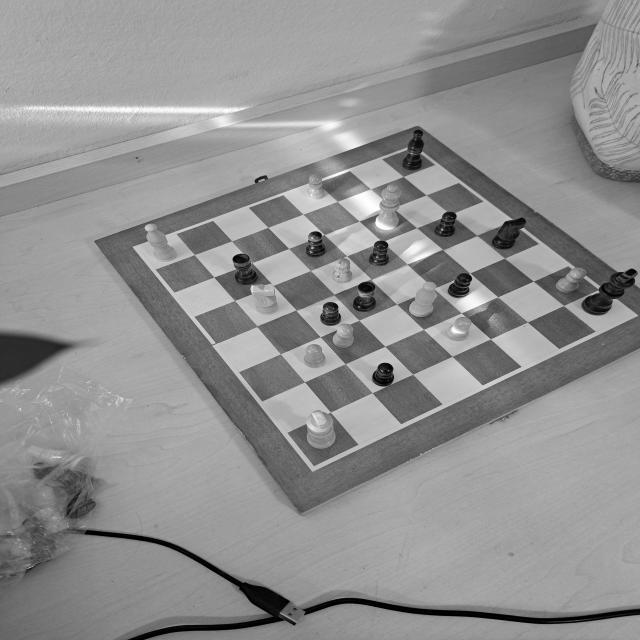chess-table-corners: (301, 458, 327, 474), (400, 142, 426, 158), (128, 242, 148, 256), (623, 308, 640, 320)
